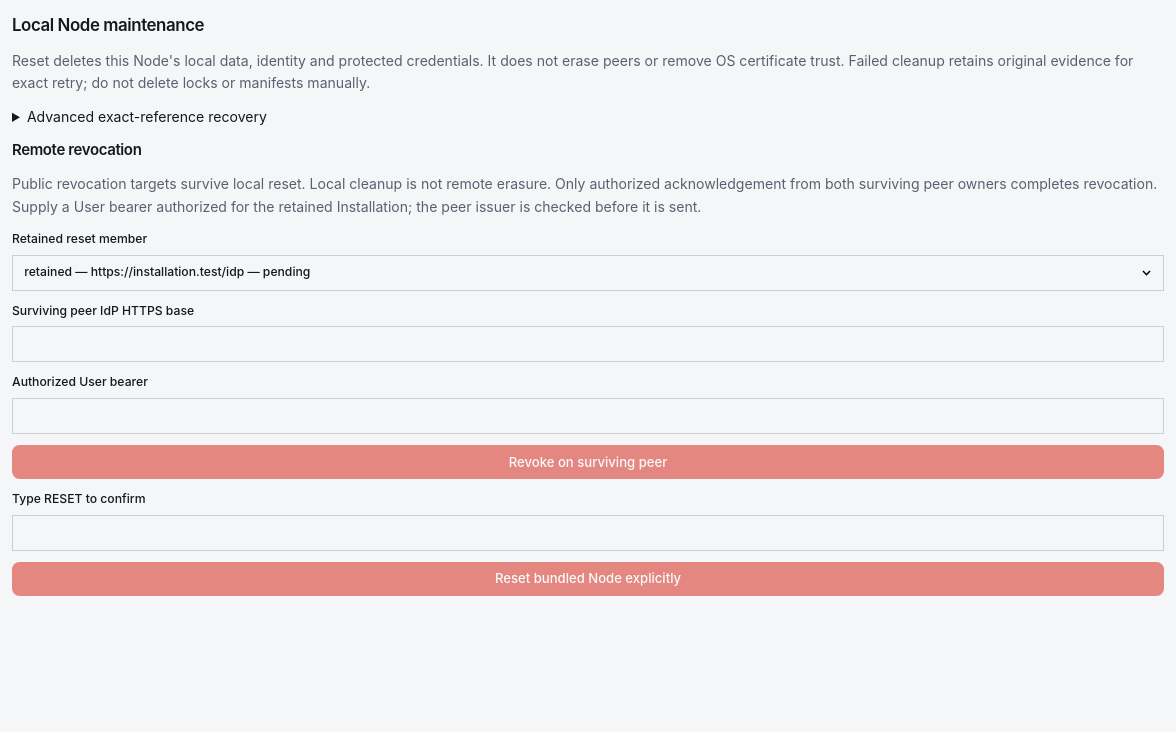
Scenario: refreshes retained targets only after authorized revocation acknowledgement
The width and height of the screenshot is (1176, 732).
Expected: the button "Revoke on surviving peer" is shown, [12, 445, 1164, 479]
Type "https://peer.test/idp" into the field labelled "Surviving peer IdP HTTPS base" at (588, 344), box [12, 326, 1164, 362]
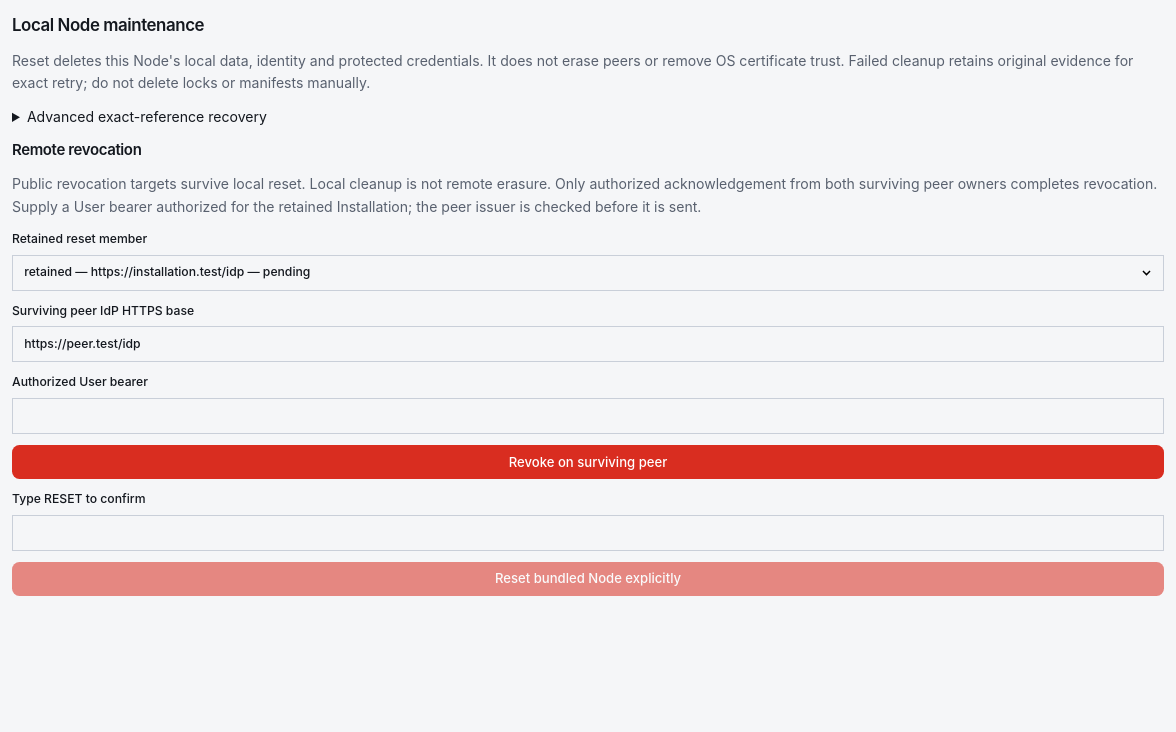
Type "explicit-token" into the password field labelled "Authorized User bearer" at (588, 416), box [12, 398, 1164, 434]
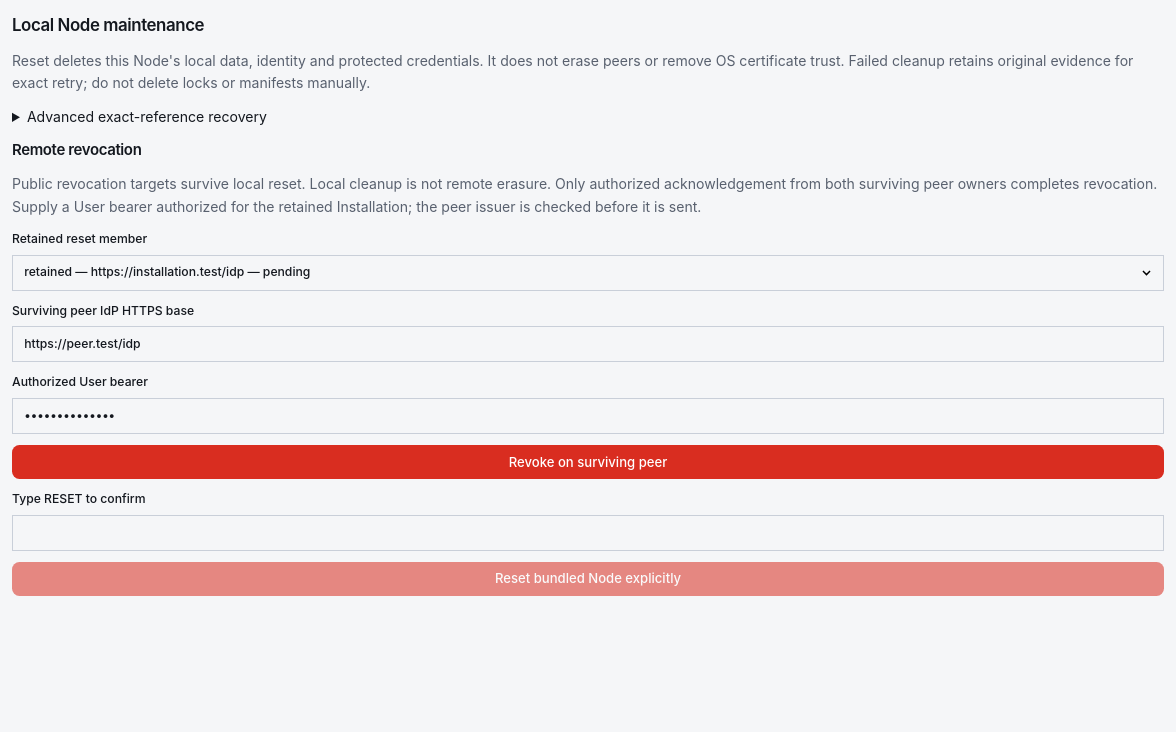
Click the button "Revoke on surviving peer" at (588, 462), box [12, 445, 1164, 479]
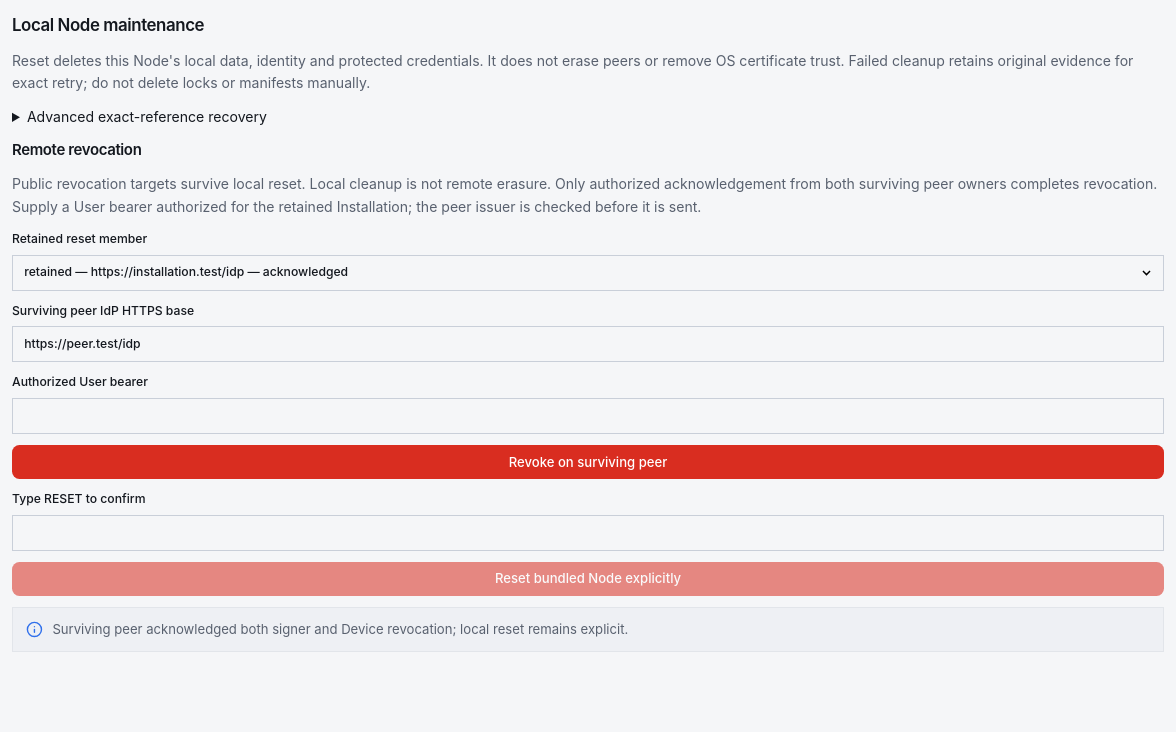
Now the text "acknowledged both signer and Device revocation" is shown, box [52, 621, 628, 637]
Now the text "acknowledged" is shown, box [52, 621, 628, 637]
